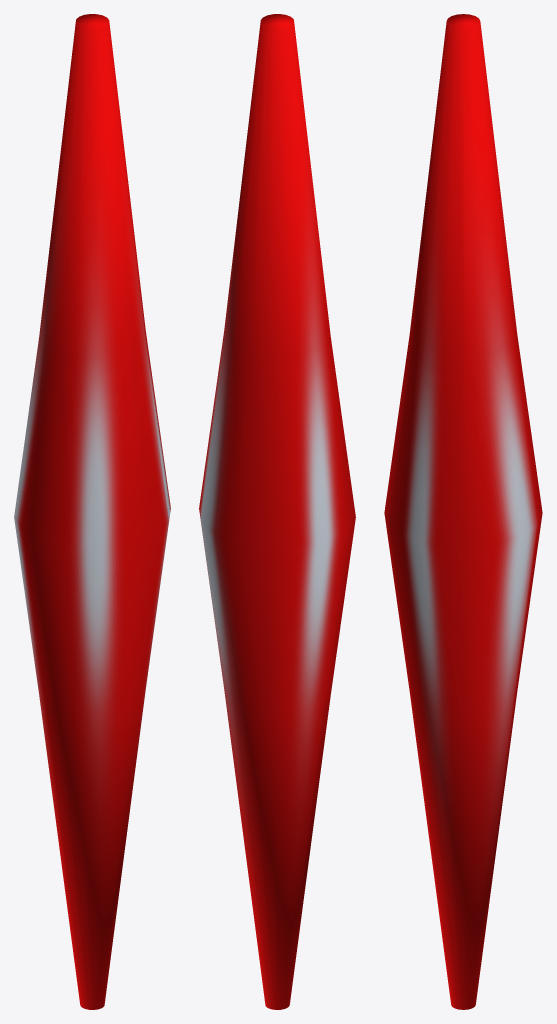
Rendered from Bullet1.fbx.
The picture shows the model from 3 angles, left to right: view 1: azimuth 30°, elevation 25°; view 2: azimuth 150°, elevation 25°; view 3: azimuth 270°, elevation 25°; orthographic projection.
Parts seen in each view (by area): view 1: Cylinder; view 2: Cylinder; view 3: Cylinder.
Boxes of the visible parts, bbox=[...] form: Cylinder: bbox=[14, 14, 170, 1009]; Cylinder: bbox=[199, 14, 355, 1009]; Cylinder: bbox=[384, 14, 542, 1009].
Bounding box in the file's own units: 14.58 × 100 × 14.58.
